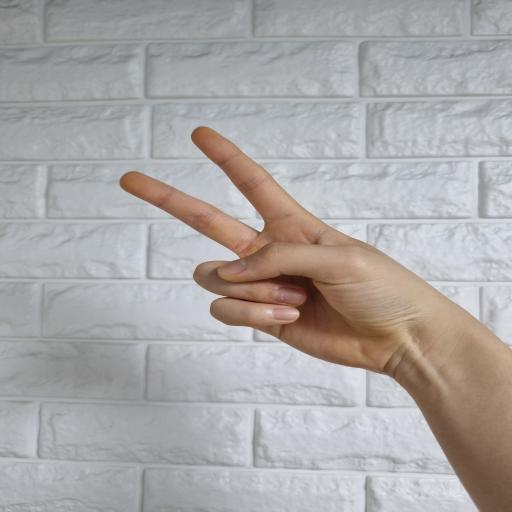Scissors: (119, 126, 512, 512)
